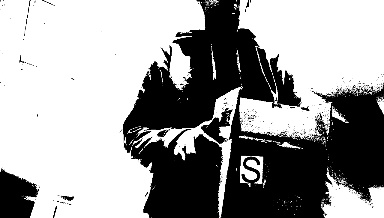S: (239, 155, 262, 183)
